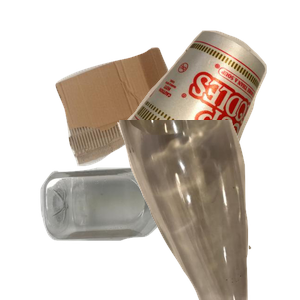cardboard: (53, 45, 221, 204)
glass: (115, 120, 300, 300)
plastic: (38, 165, 255, 300)
trash: (119, 28, 300, 207)
